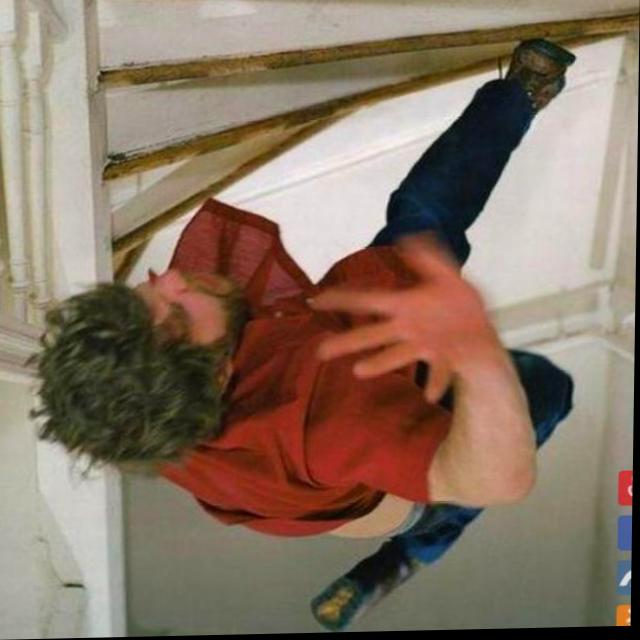fall: (34, 40, 580, 639)
